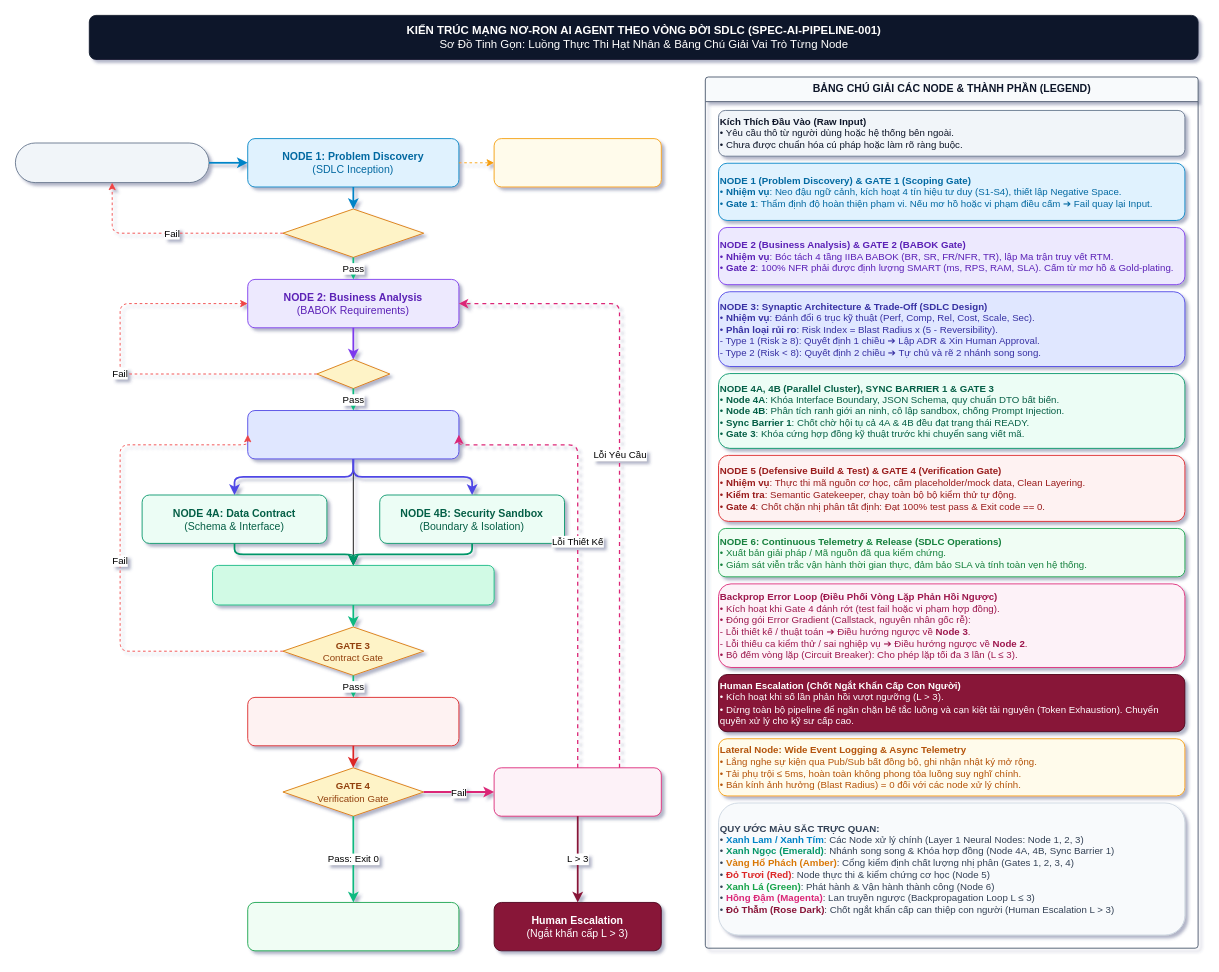
This 1219x972 diagram has some shape labels left out. The shapes that lost their labels are listed below. From the top down, each one's centre as x and y in pixels, then its label:
[112,162]: Kích Thích Đầu Vào (Raw User Prompt)
[577,162]: Lateral: Wide Event Logging (Async Telemetry)
[353,232]: GATE 1 Scoping Gate
[353,374]: GATE 2 BABOK Gate
[353,434]: NODE 3: Architecture & Trade-Off (SDLC Design)
[353,585]: SYNC BARRIER 1: Pre-Build Join Barrier (Hội tụ đồng bộ 2 nhánh song song)
[353,721]: NODE 5: Defensive Build & Test (Zero Placeholder)
[577,791]: Backprop Error Loop (Vòng lặp lỗi L ≤ 3)
[353,926]: NODE 6: Telemetry & Release (SDLC Operations)
